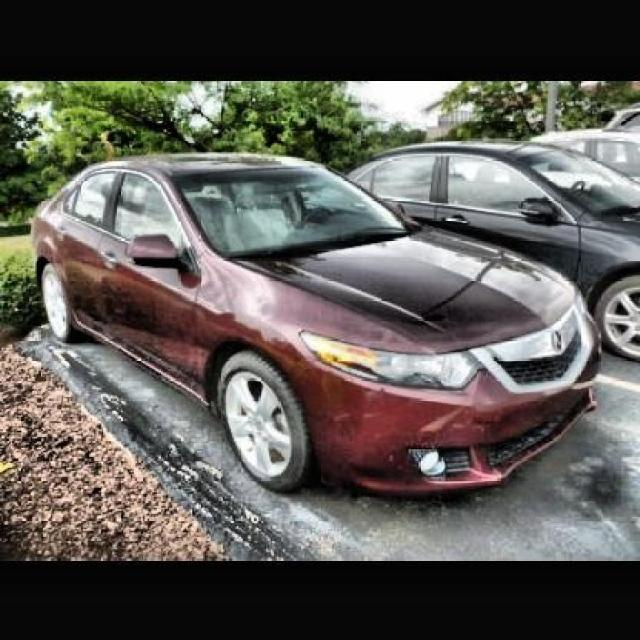maroon: (26, 167, 556, 505)
